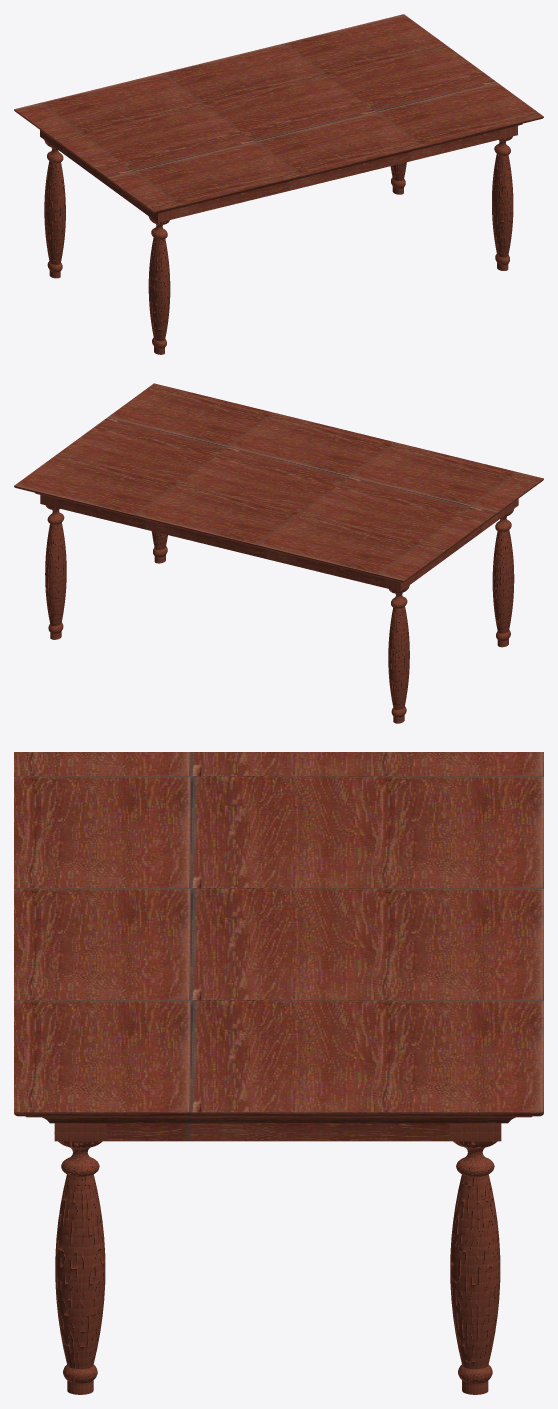
File: table.glb
The picture shows the model from 3 angles, top to bottom: view 1: azimuth 30°, elevation 25°; view 2: azimuth 150°, elevation 25°; view 3: azimuth 270°, elevation 25°; orthographic projection. The views are drawn at different scales.
Visible parts, largest first — view 1: Visuals; view 2: Visuals; view 3: Visuals.
Boxes of the visible parts, <box> form: Visuals: <box>14,14,543,354</box>; Visuals: <box>14,383,543,723</box>; Visuals: <box>14,752,543,1394</box>.
Bounding box in the file's own units: 2.5 × 0.9741 × 1.56.
1 material, 1 textured.
